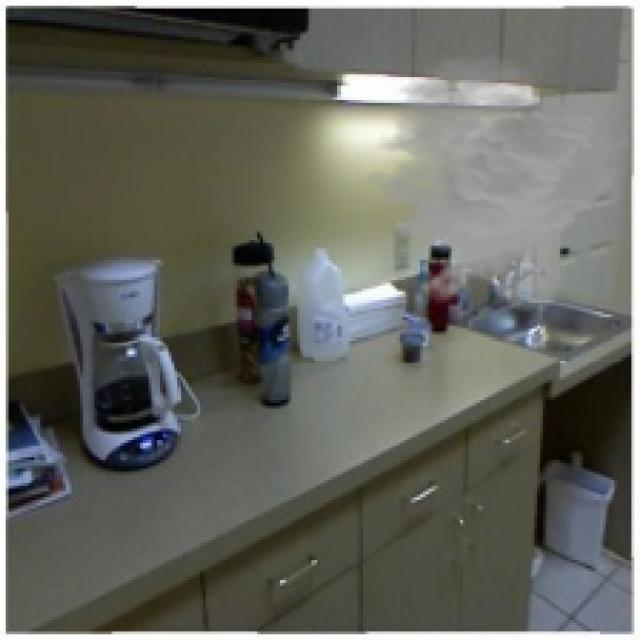Smoke: (352, 52, 634, 314)
